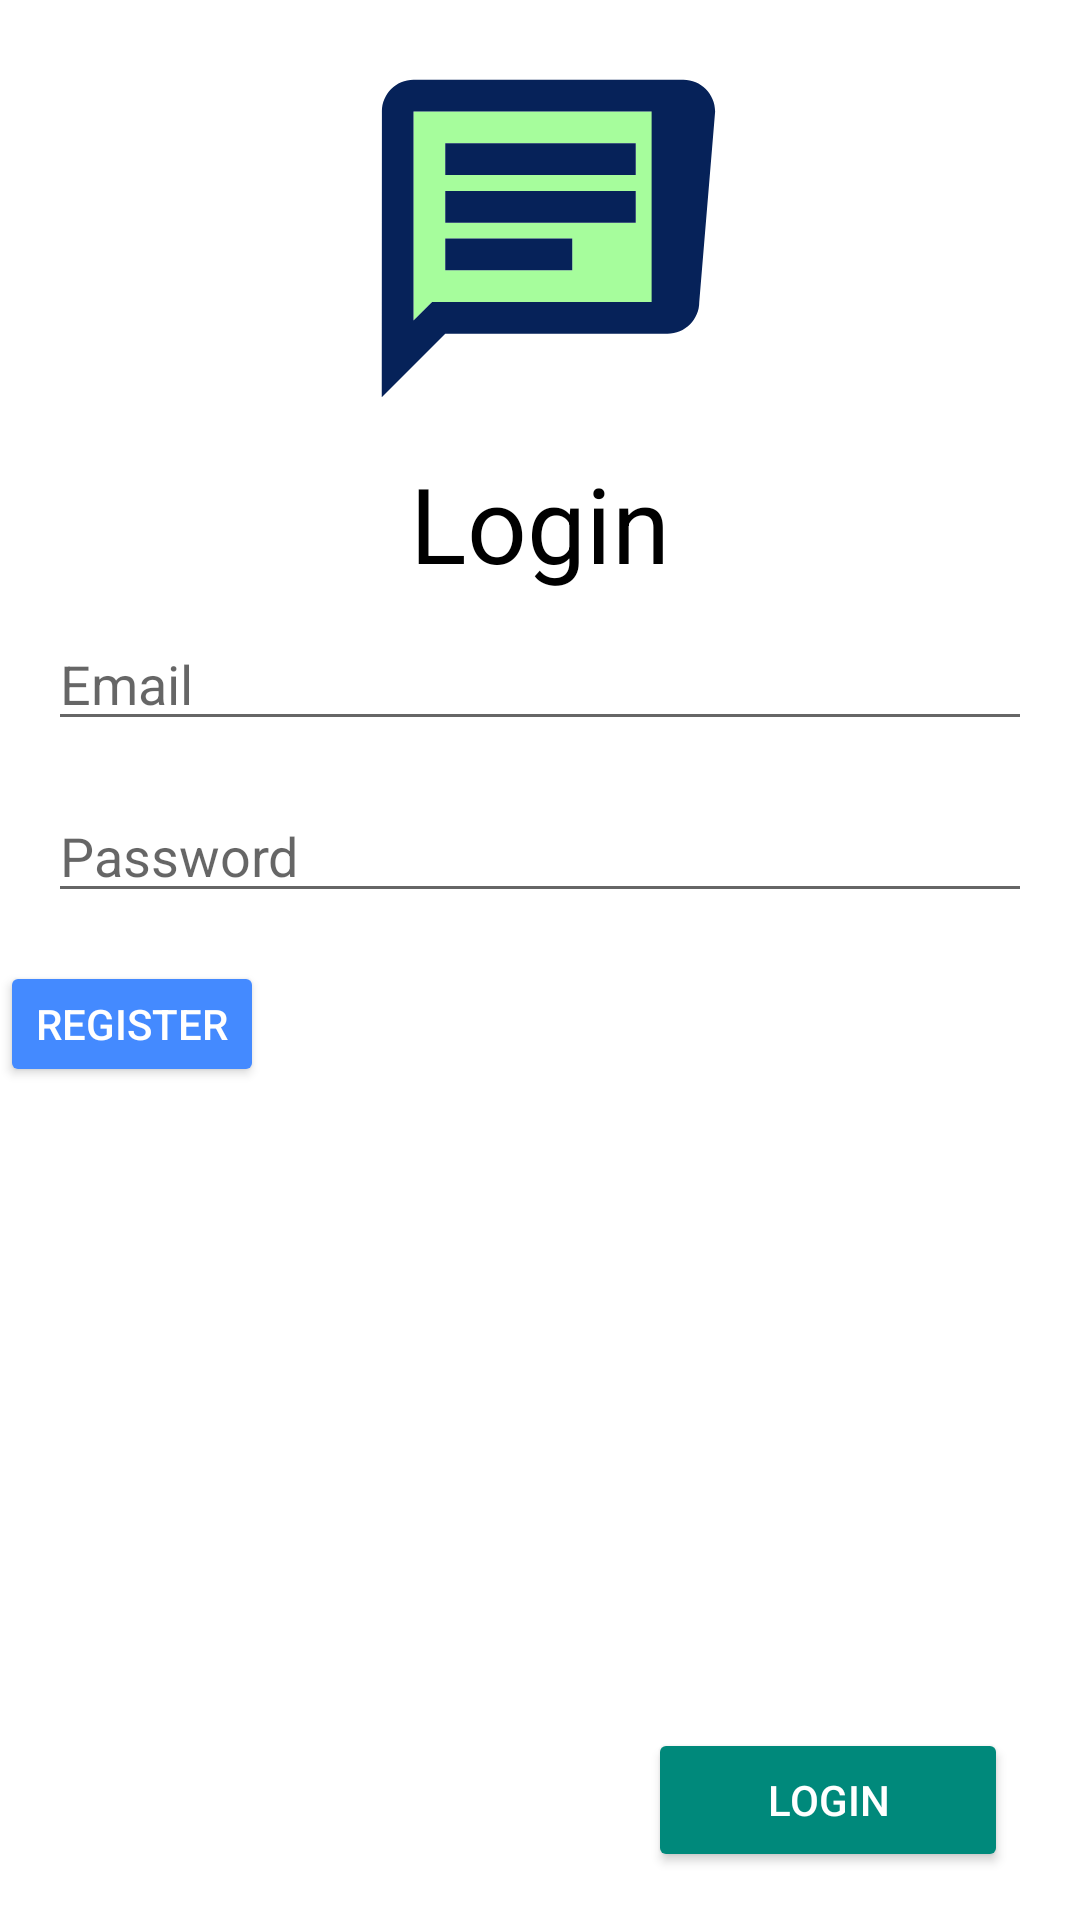

Locate icon controls on the screen. Image size 1080 × 1920, boxes as [x1,y1,x2,y2].
chat: [381,79,716,397]
